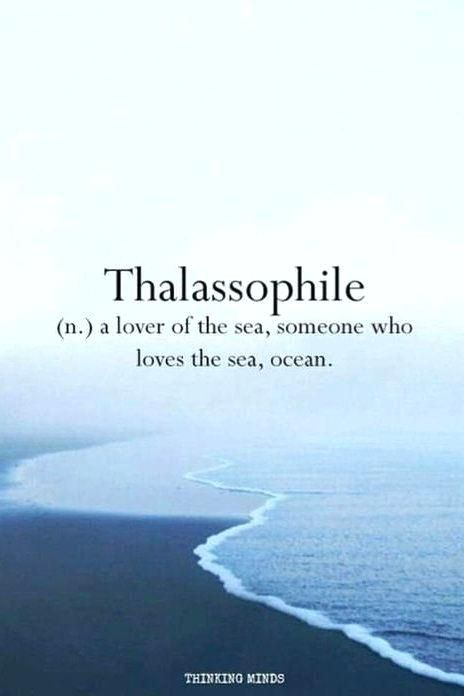latin: (55, 312, 414, 373), (102, 264, 366, 306), (183, 669, 286, 689)
